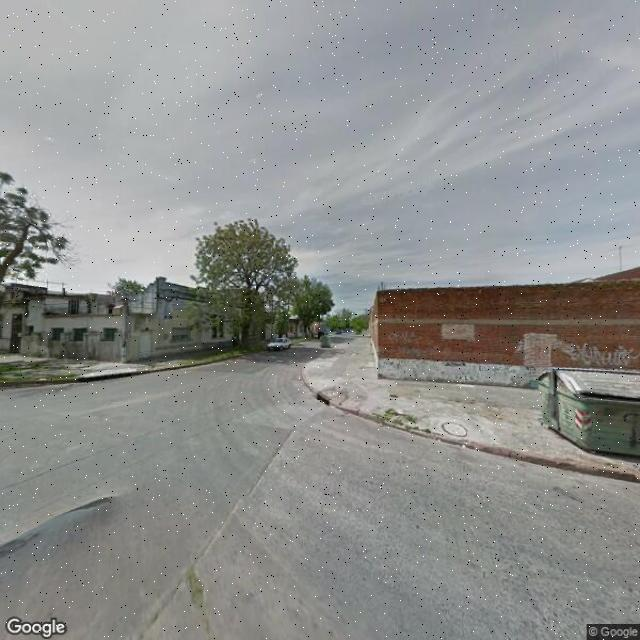garbage container: (528, 359, 640, 468)
